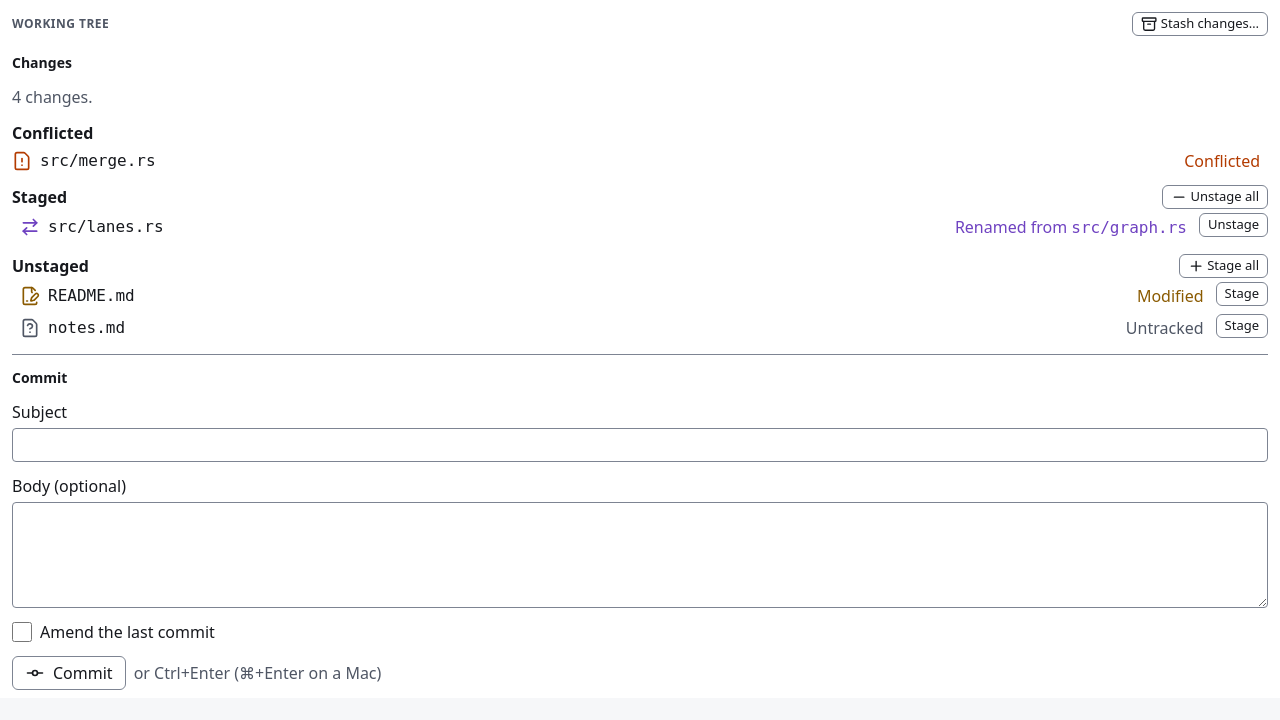
Test: it tells the page how many changes are staged, unstaged and conflicted, for the Commit graph to show
Expected: the text "4 changes." is shown, [12,86,93,108]
Click the button "Stage all" at (1223, 266), box [1179,254,1268,278]
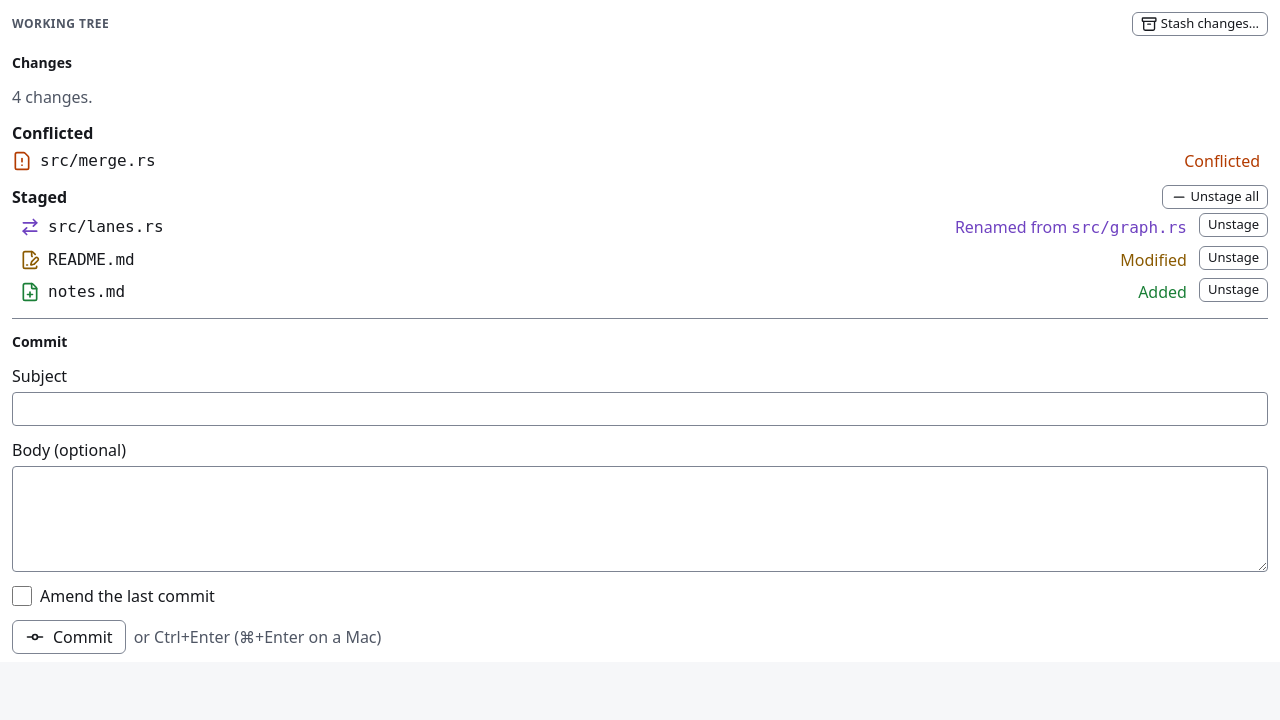
Expected: the button "notes.md Added" is shown, [12,278,1191,306]
